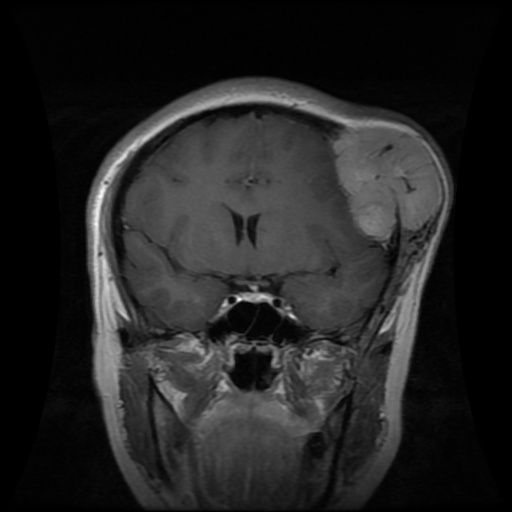meningioma: (334, 126, 440, 240)
